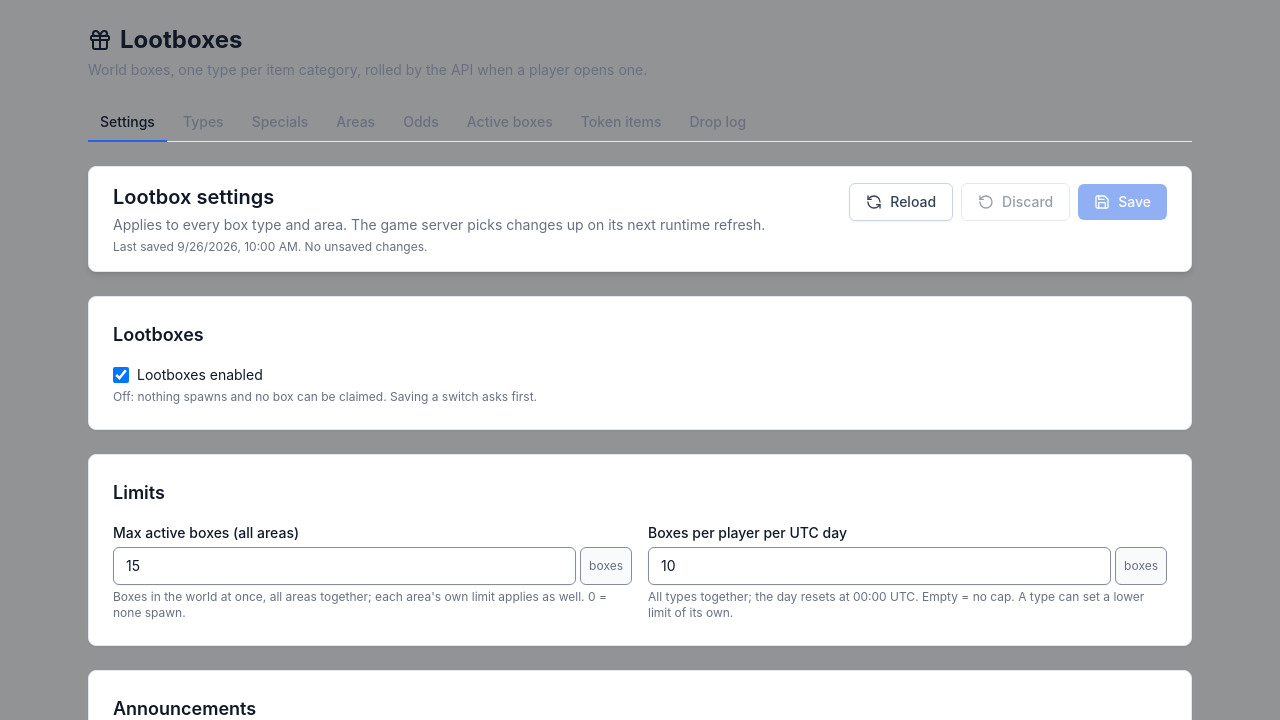
Test: Lootbox settings tab (#26) › shows a refused save in the header and keeps the edit
Replace the text in the field labelled "Max active boxes (all areas)" with "9999" at {"x": 345, "y": 566}, box [113,547,576,585]
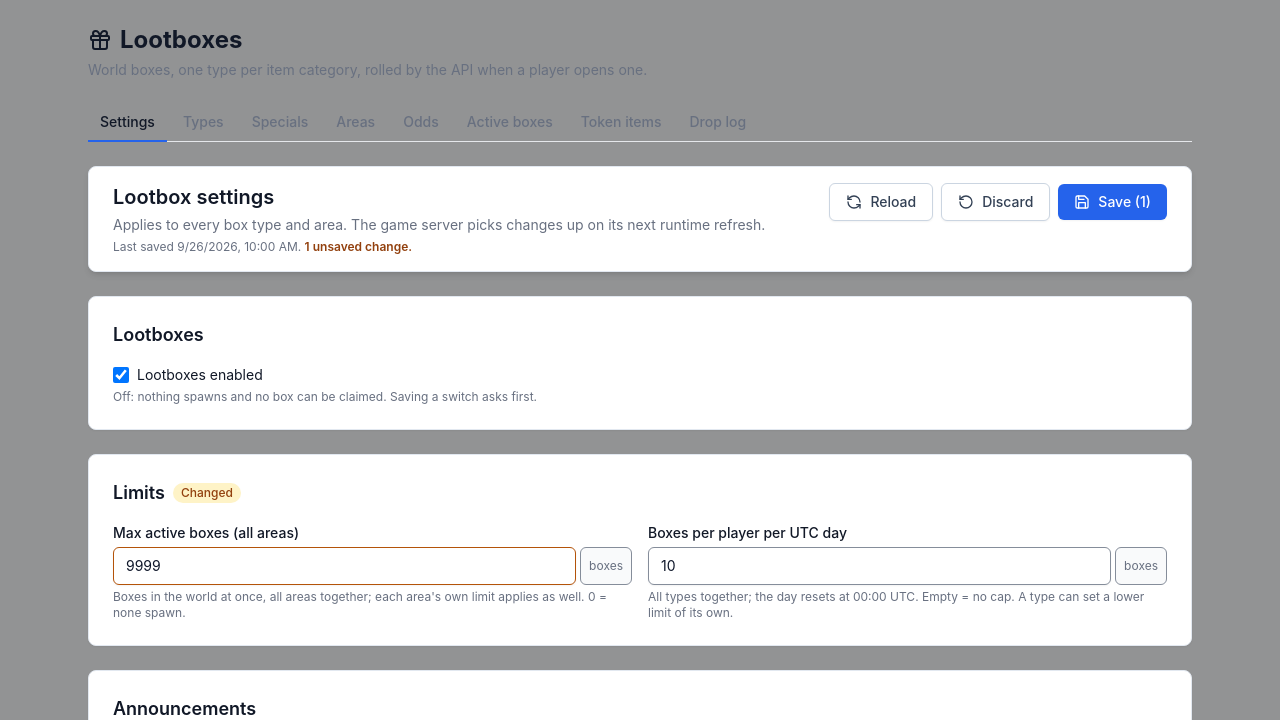
Click the button "Save (1)" at {"x": 1113, "y": 202}, box [1058,184,1167,220]
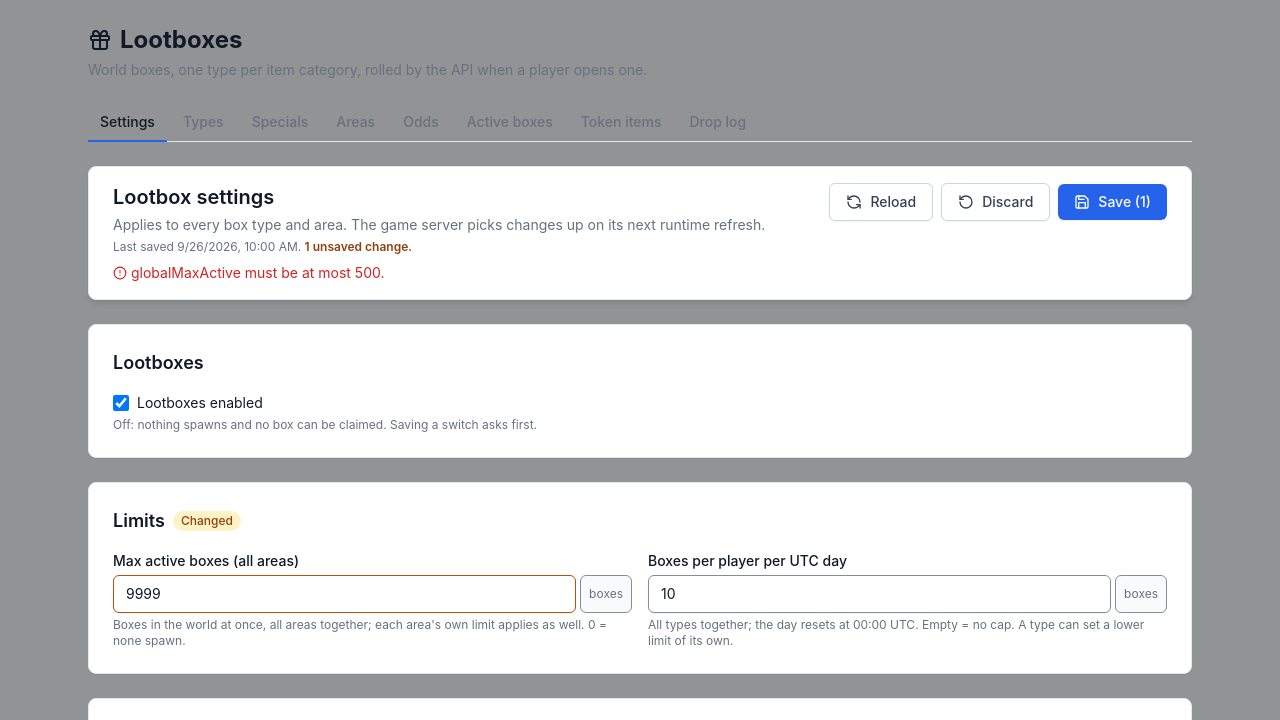
expect the message reads "globalMaxActive must be at most 500.": met, box [131,264,384,281]
